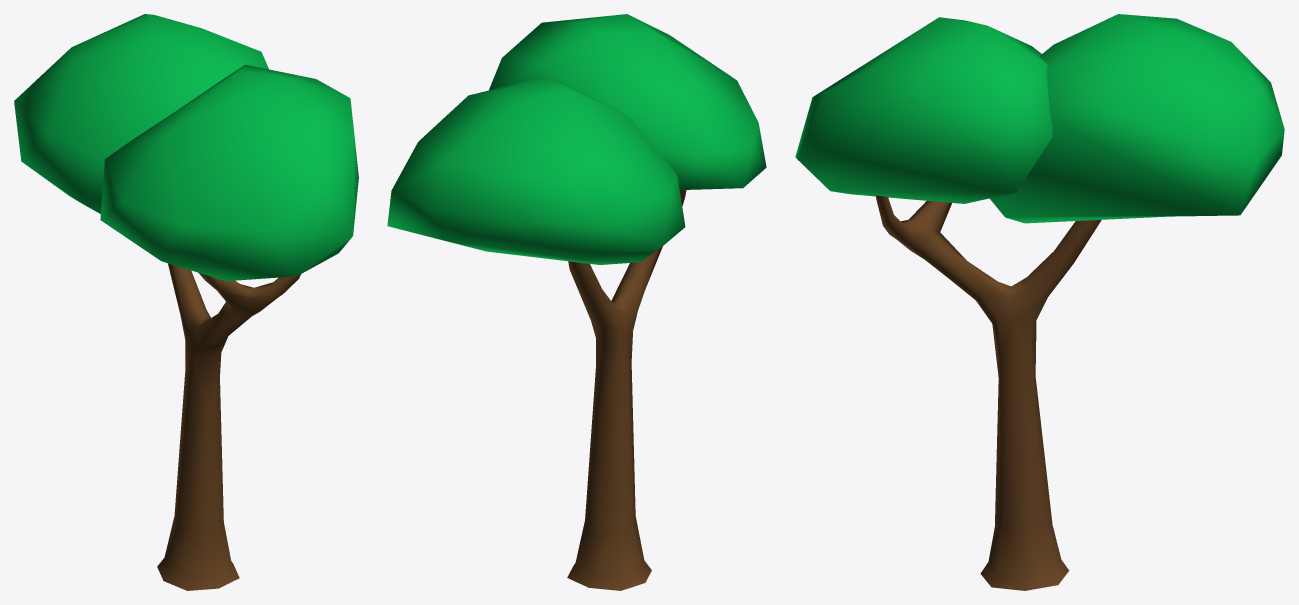
The model's file is Tree_3.fbx.
3 views of the same model, side by side, from view 1: azimuth 30°, elevation 25°; view 2: azimuth 150°, elevation 25°; view 3: azimuth 270°, elevation 25° (orthographic). The views are drawn at different scales.
Visible parts, largest first — view 1: Tree_3; view 2: Tree_3; view 3: Tree_3.
Boxes of the visible parts, box(x1,y1,x2,y2) form: Tree_3: box(14, 14, 358, 590); Tree_3: box(387, 14, 766, 590); Tree_3: box(795, 14, 1284, 590).
Bounding box in the file's own units: 627 × 1311 × 1036.
